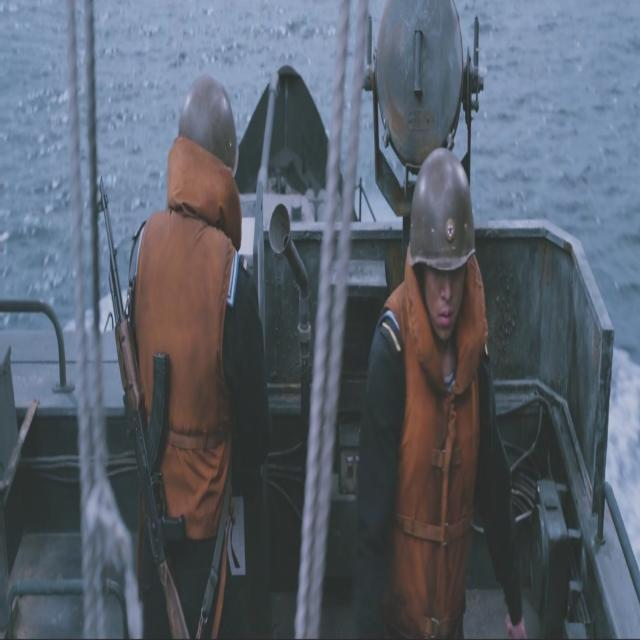gun-knife-thesis - v11 Yolov5 augmented: (88, 152, 199, 639)
